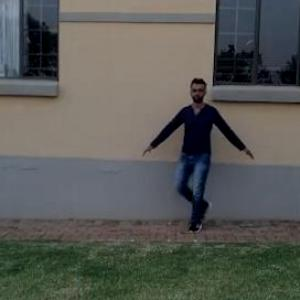land: (149, 79, 254, 240)
